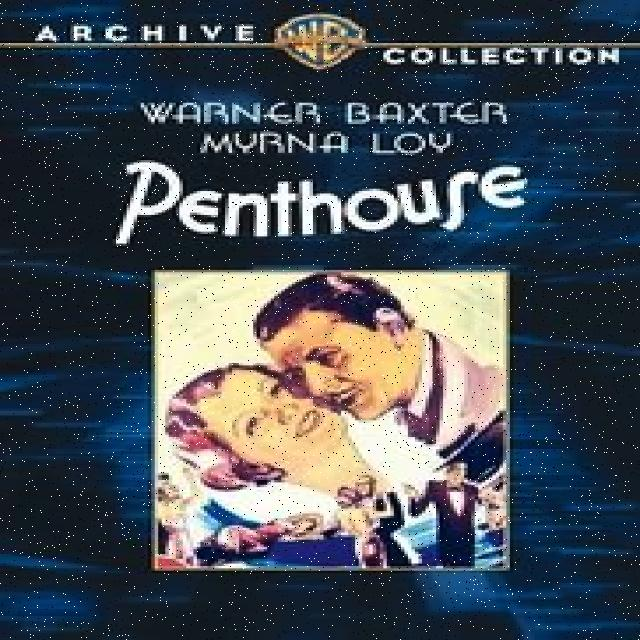movie-judul: (96, 78, 542, 252)
picture: (153, 270, 513, 568)
